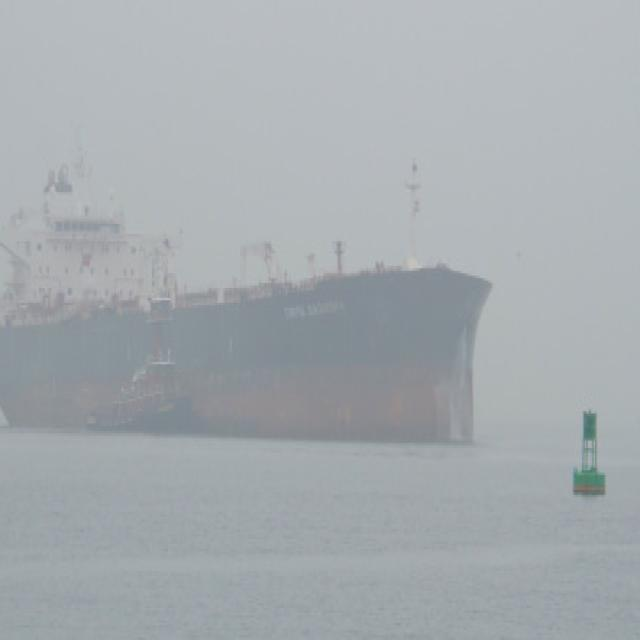buoy: (571, 406, 609, 498)
cargoship: (0, 150, 494, 438)
